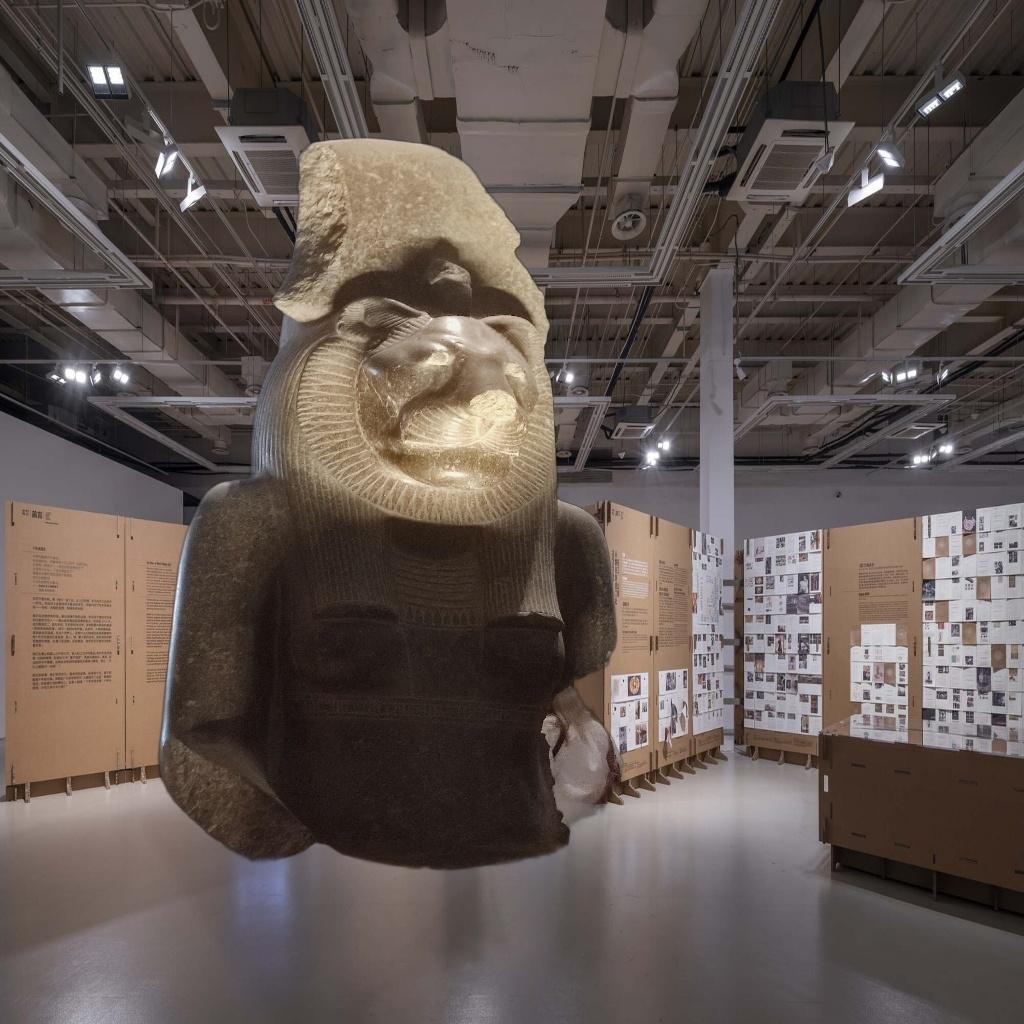Seated Statue of God Sekhmet: (152, 134, 812, 1020)
